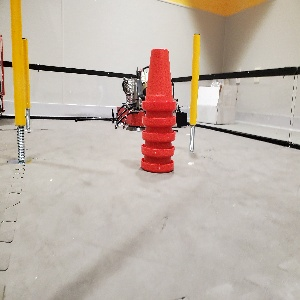Red_5: (138, 44, 179, 174)
